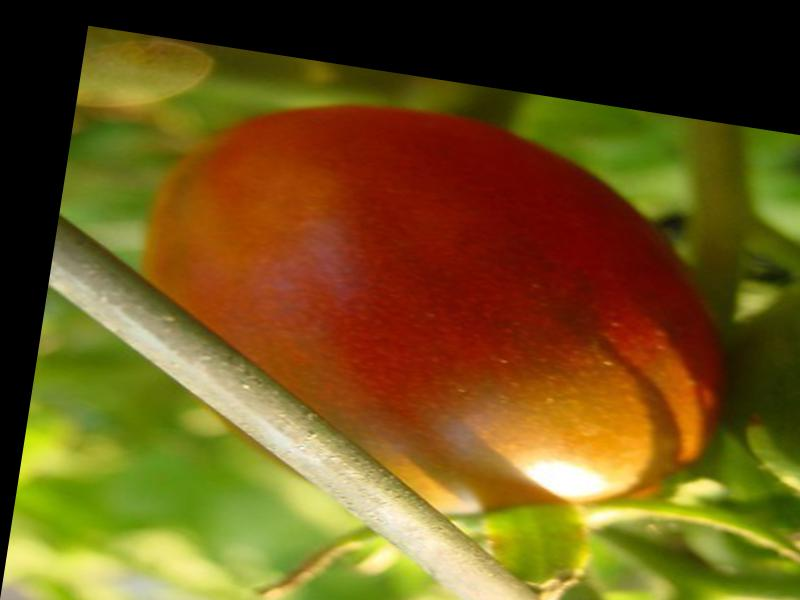Tomato: (121, 74, 750, 550)
